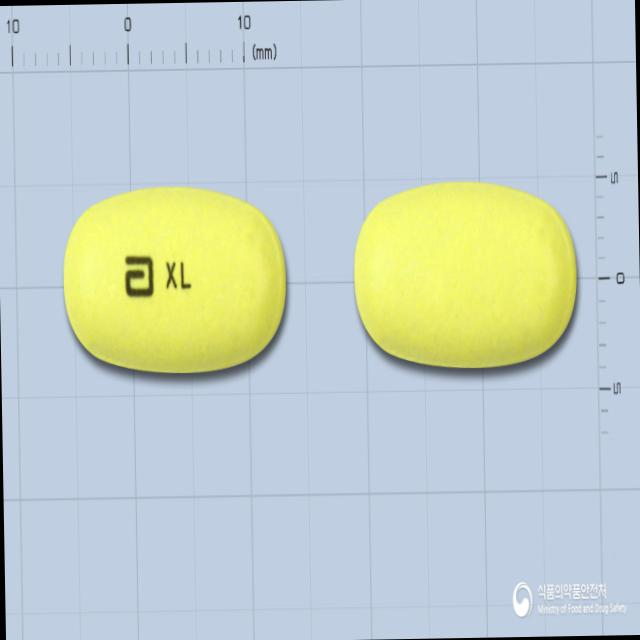Klaricid-Xl: (60, 182, 289, 376)
